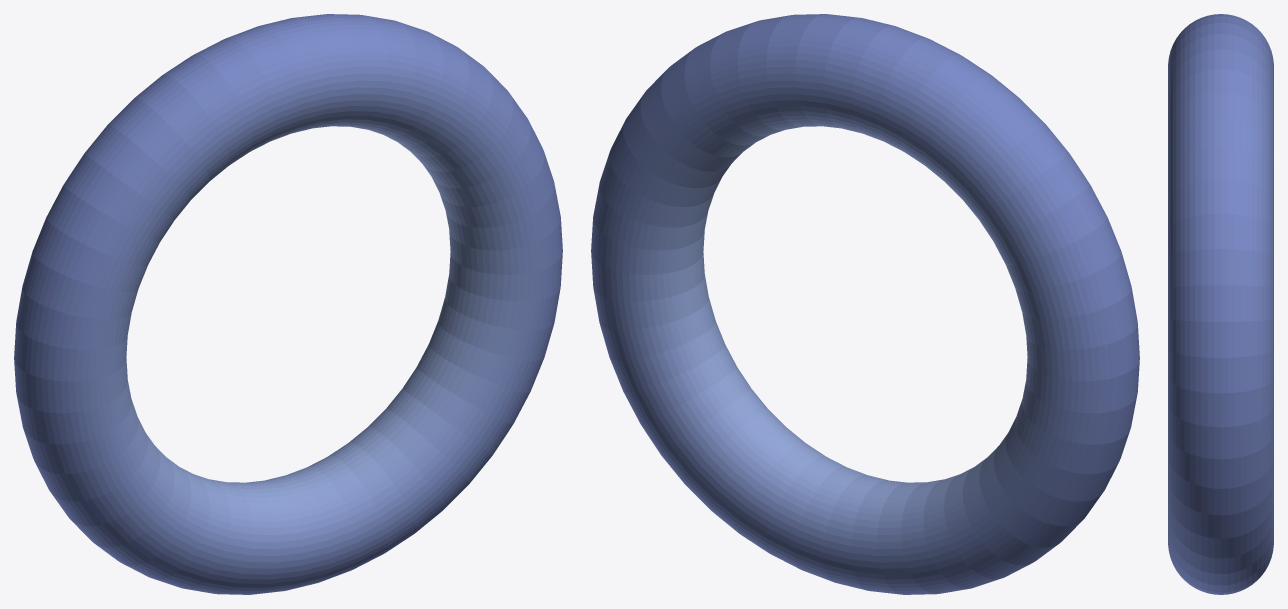
3 views of the same model, side by side, from view 1: azimuth 30°, elevation 25°; view 2: azimuth 150°, elevation 25°; view 3: azimuth 270°, elevation 25° (orthographic). The views are drawn at different scales.
Parts seen in each view (by area): view 1: world; view 2: world; view 3: world.
Boxes of the visible parts, <box> form: world: <box>14,14,562,594</box>; world: <box>591,14,1139,594</box>; world: <box>1168,14,1273,594</box>.
Bounding box in the file's own units: 21.2 × 21.16 × 3.86.
